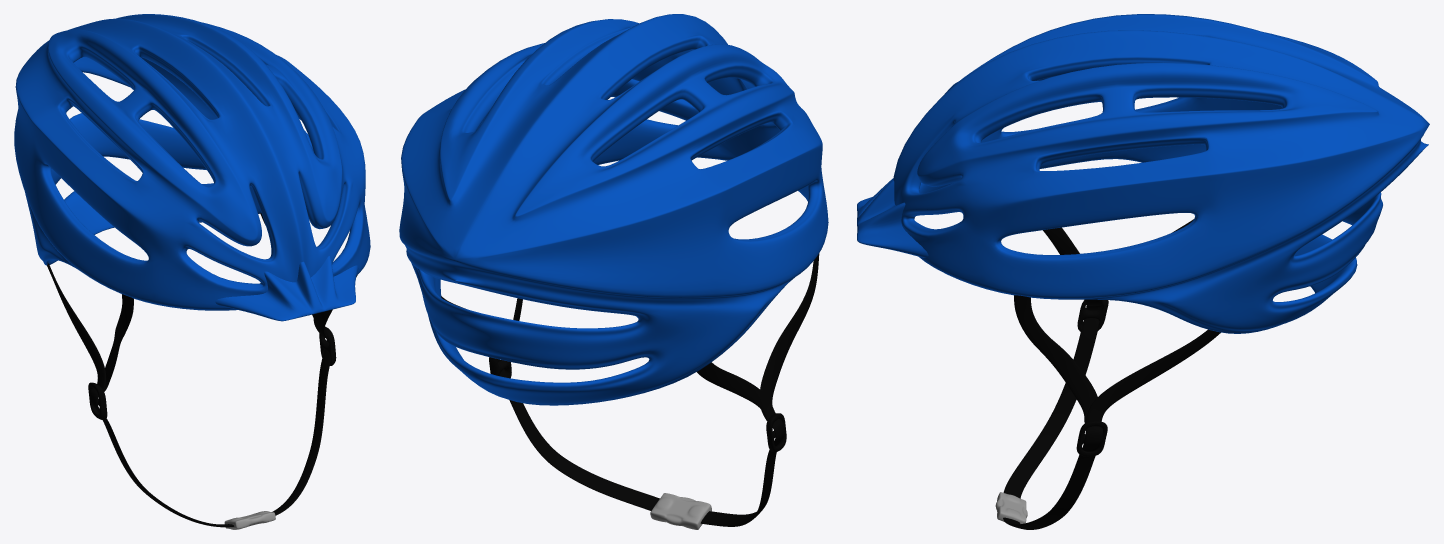
The model's file is bicycle-helmet.glb.
3 views of the same model, side by side, from view 1: azimuth 30°, elevation 25°; view 2: azimuth 150°, elevation 25°; view 3: azimuth 270°, elevation 25° (orthographic). The views are drawn at different scales.
Visible parts, largest first — view 1: 11723_helmet_sg_0; view 2: 11723_helmet_sg_0; view 3: 11723_helmet_sg_0.
Boxes of the visible parts, x1,y1,x2,y2 form: 11723_helmet_sg_0: (14,14,370,529); 11723_helmet_sg_0: (399,14,828,529); 11723_helmet_sg_0: (857,14,1429,529).
Bounding box in the file's own units: 3.59 × 5.52 × 5.88.
